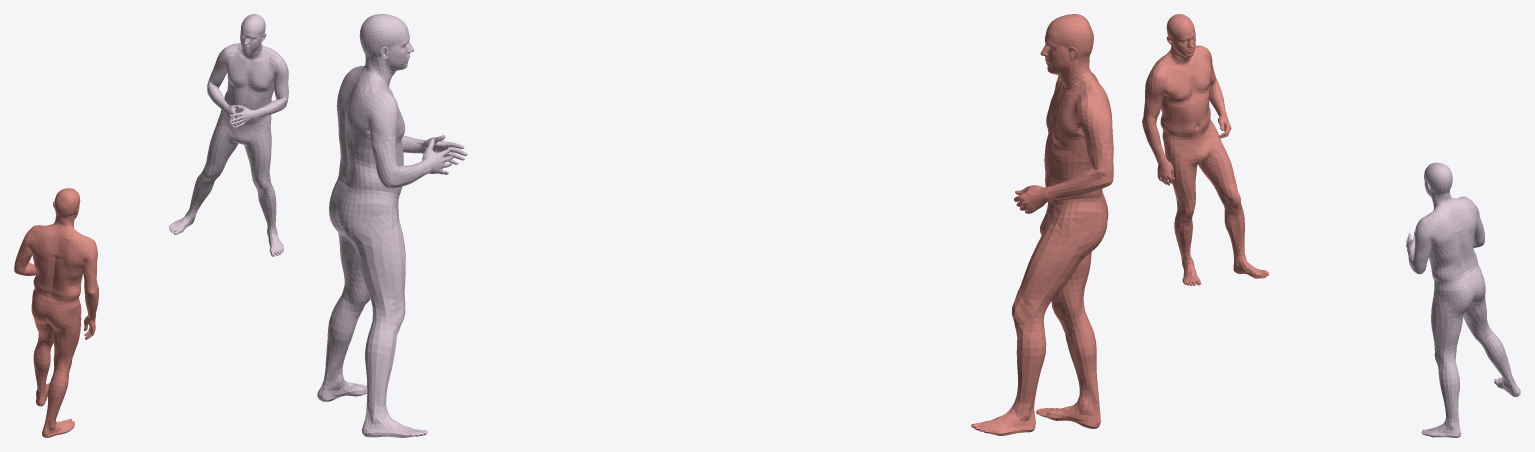
File: frame_0007.glb
3 renders of one model, left to right at view 1: azimuth 30°, elevation 25°; view 2: azimuth 150°, elevation 25°; view 3: azimuth 270°, elevation 25°, orthographic. The views are drawn at different scales.
Visible parts, largest first — view 1: human_1, human_2; view 2: human_2, human_1; view 3: human_1, human_2.
Part boxes in pixels (box(x1,y1,x2,y2)): human_1: box(14, 188, 98, 437); human_2: box(169, 14, 288, 256); human_2: box(317, 14, 467, 437); human_1: box(971, 14, 1113, 435); human_1: box(1142, 14, 1269, 285); human_2: box(1406, 162, 1520, 437).
Bounding box in the file's own units: 3.06 × 2.02 × 2.46.
